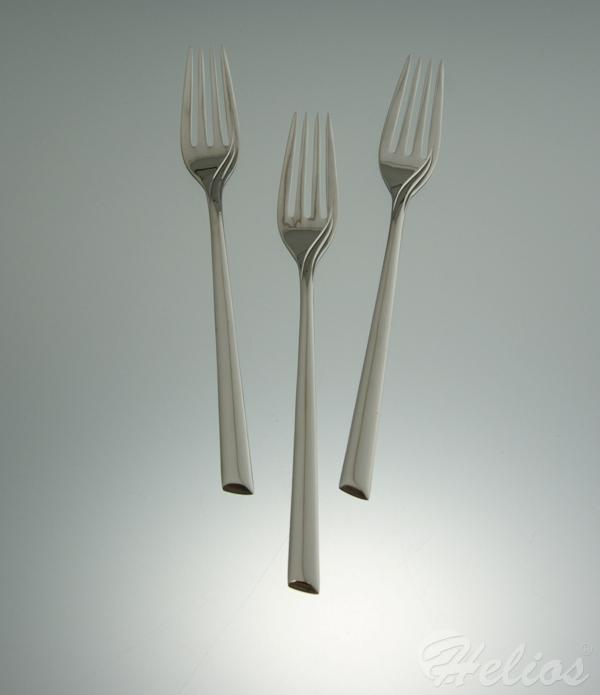Widelec: (275, 105, 339, 263), (378, 50, 446, 198), (179, 44, 243, 199)
